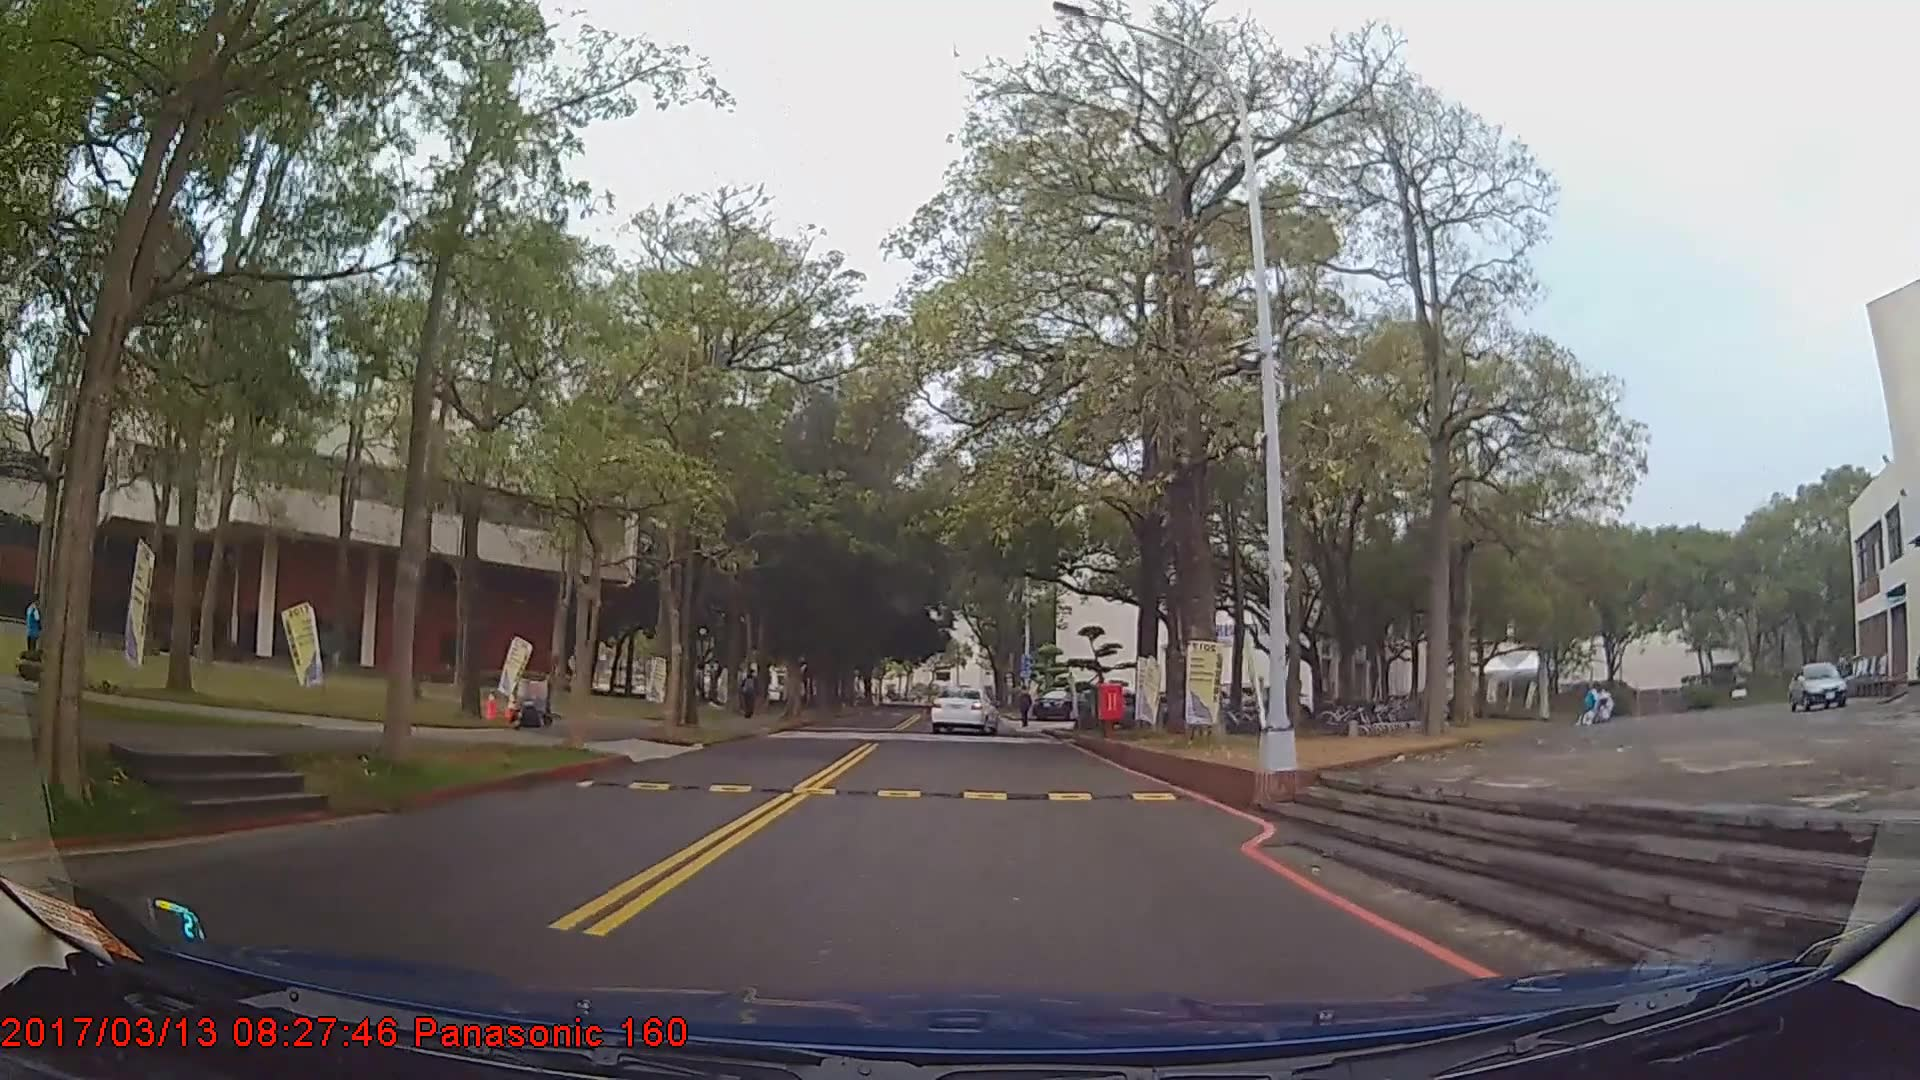pedestrian: (24, 592, 49, 676), (739, 668, 762, 721)
vehicle: (1785, 657, 1859, 712), (929, 684, 999, 735), (1032, 686, 1087, 718)
